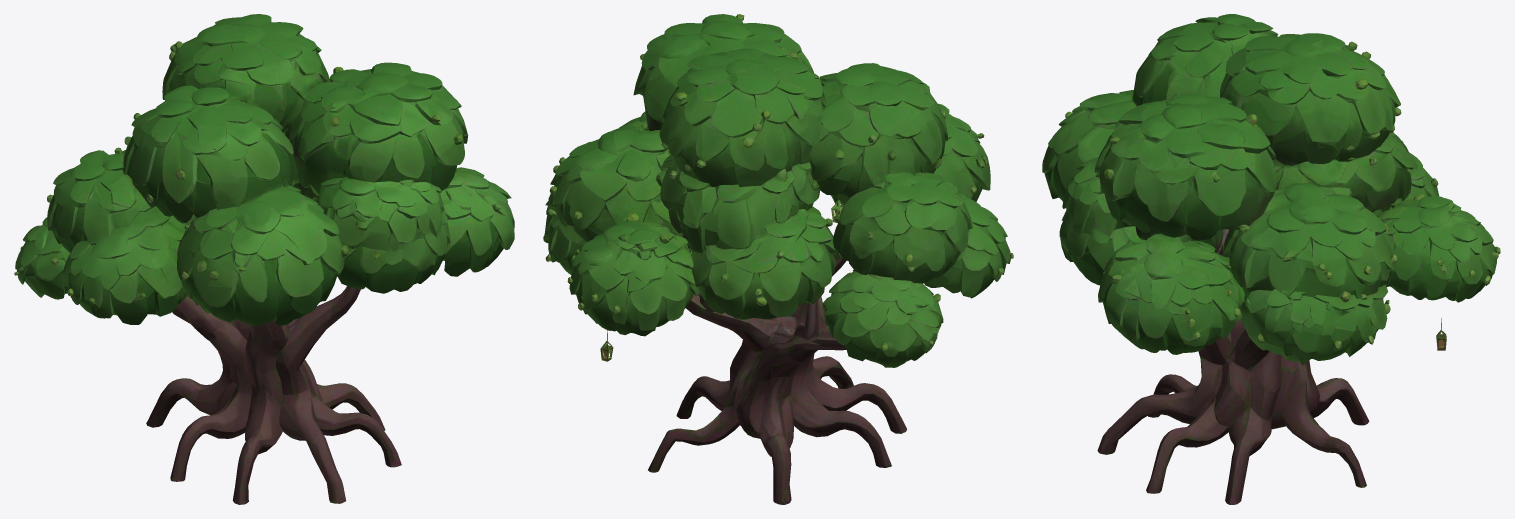
File: et_bigtree.glb
3 renders of one model, left to right at view 1: azimuth 30°, elevation 25°; view 2: azimuth 150°, elevation 25°; view 3: azimuth 270°, elevation 25°, orthographic. The views are drawn at different scales.
Bounding box in the file's own units: 1.9 × 1.74 × 1.78.
Materials: 1 (1 with a texture image).
